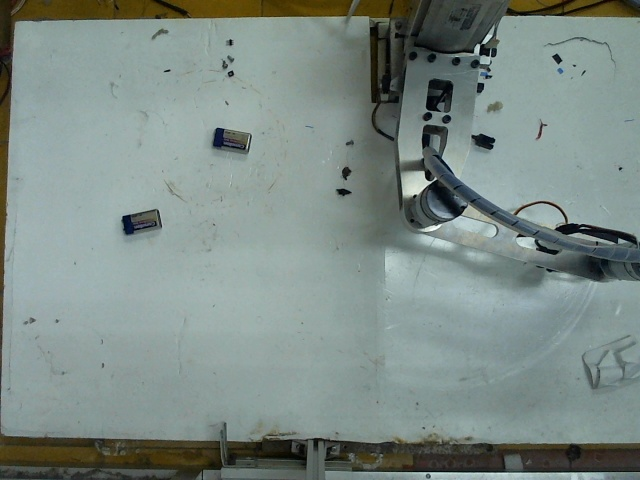battery: (118, 206, 167, 235), (213, 122, 250, 153)
